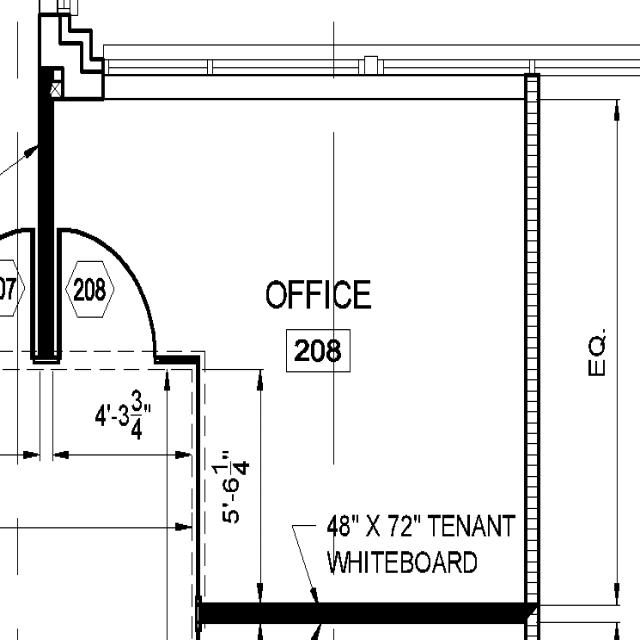Doors: (55, 221, 166, 371)
